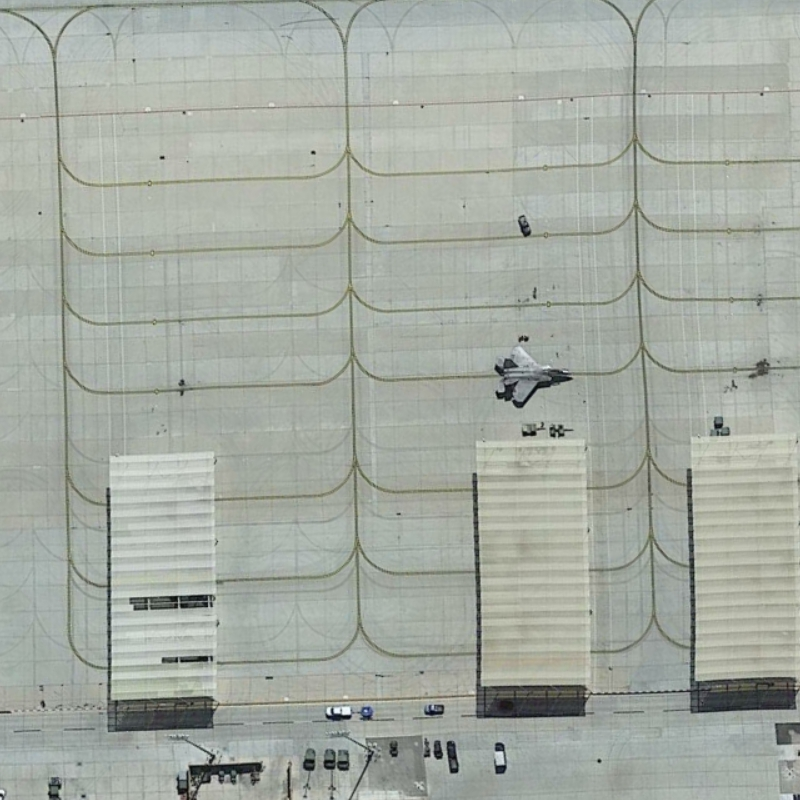A15: (491, 342, 583, 410)
